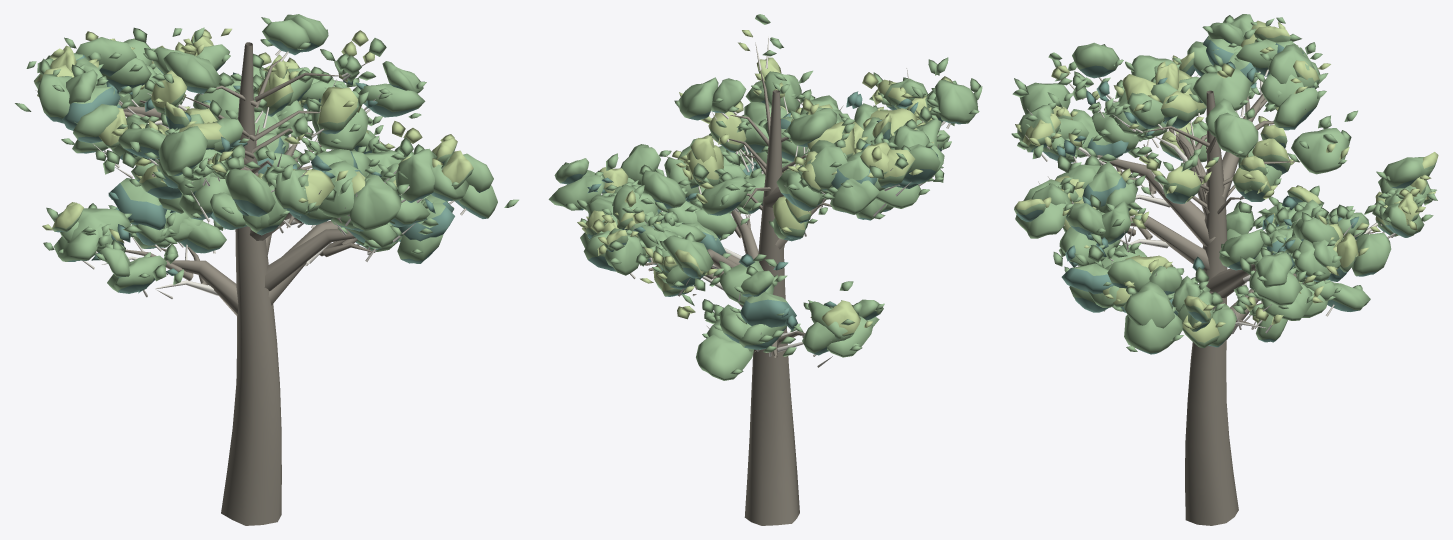
File: r29-oak-arch-baseline.glb
3 renders of one model, left to right at view 1: azimuth 30°, elevation 25°; view 2: azimuth 150°, elevation 25°; view 3: azimuth 270°, elevation 25°, orthographic. The views are drawn at different scales.
Visible parts, largest first — view 1: oak_arch; view 2: oak_arch; view 3: oak_arch.
Boxes of the visible parts, x1,y1,x2,y2 form: oak_arch: [15, 14, 518, 525]; oak_arch: [548, 14, 982, 525]; oak_arch: [1011, 14, 1438, 525].
Bounding box in the file's own units: 7.66 × 8.44 × 7.31.
